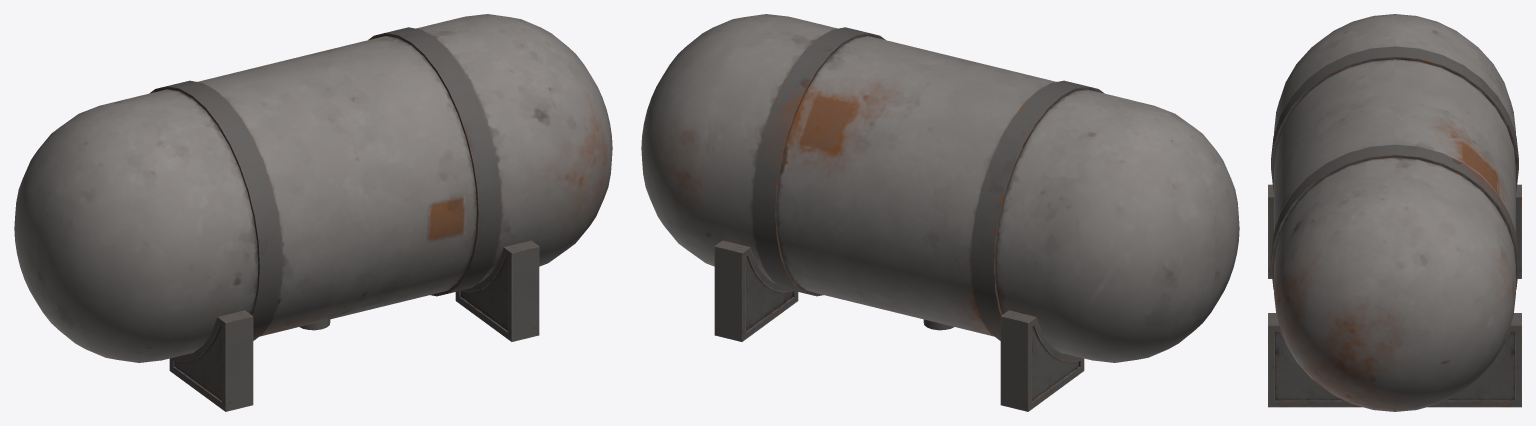
The model's file is SM_BigBarrel_01.glb.
3 renders of one model, left to right at view 1: azimuth 30°, elevation 25°; view 2: azimuth 150°, elevation 25°; view 3: azimuth 270°, elevation 25°, orthographic. The views are drawn at different scales.
Parts seen in each view (by area): view 1: SM_BigBarrel_01; view 2: SM_BigBarrel_01; view 3: SM_BigBarrel_01.
Part boxes in pixels (x1,y1,x2,y2): SM_BigBarrel_01: (14,14,612,411); SM_BigBarrel_01: (641,14,1239,411); SM_BigBarrel_01: (1268,14,1521,411).
Size of the model in its own units: 4.82 by 2.15 by 2.1.
1 material, 1 textured.
